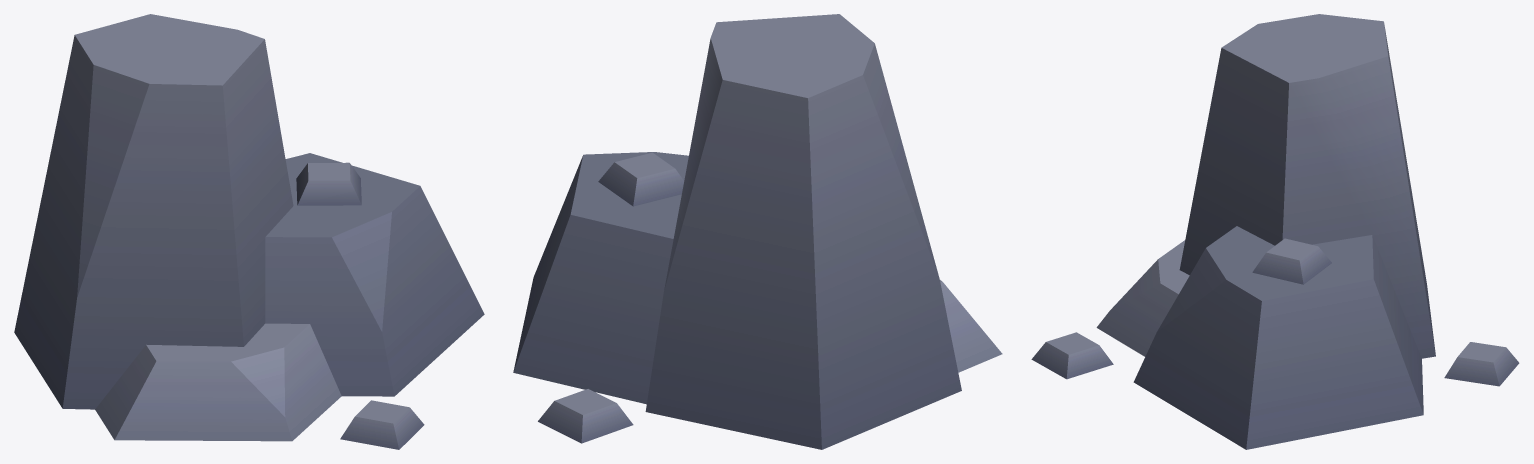
File: rock-a.glb
3 renders of one model, left to right at view 1: azimuth 30°, elevation 25°; view 2: azimuth 150°, elevation 25°; view 3: azimuth 270°, elevation 25°, orthographic. The views are drawn at different scales.
Parts seen in each view (by area): view 1: rock-a; view 2: rock-a; view 3: rock-a.
Boxes of the visible parts, <box> form: rock-a: <box>14,14,484,449</box>; rock-a: <box>513,14,1002,449</box>; rock-a: <box>1031,14,1519,449</box>.
Size of the model in its own units: 0.5552 by 0.3927 by 0.6216.
Materials: 1 (1 with a texture image).
